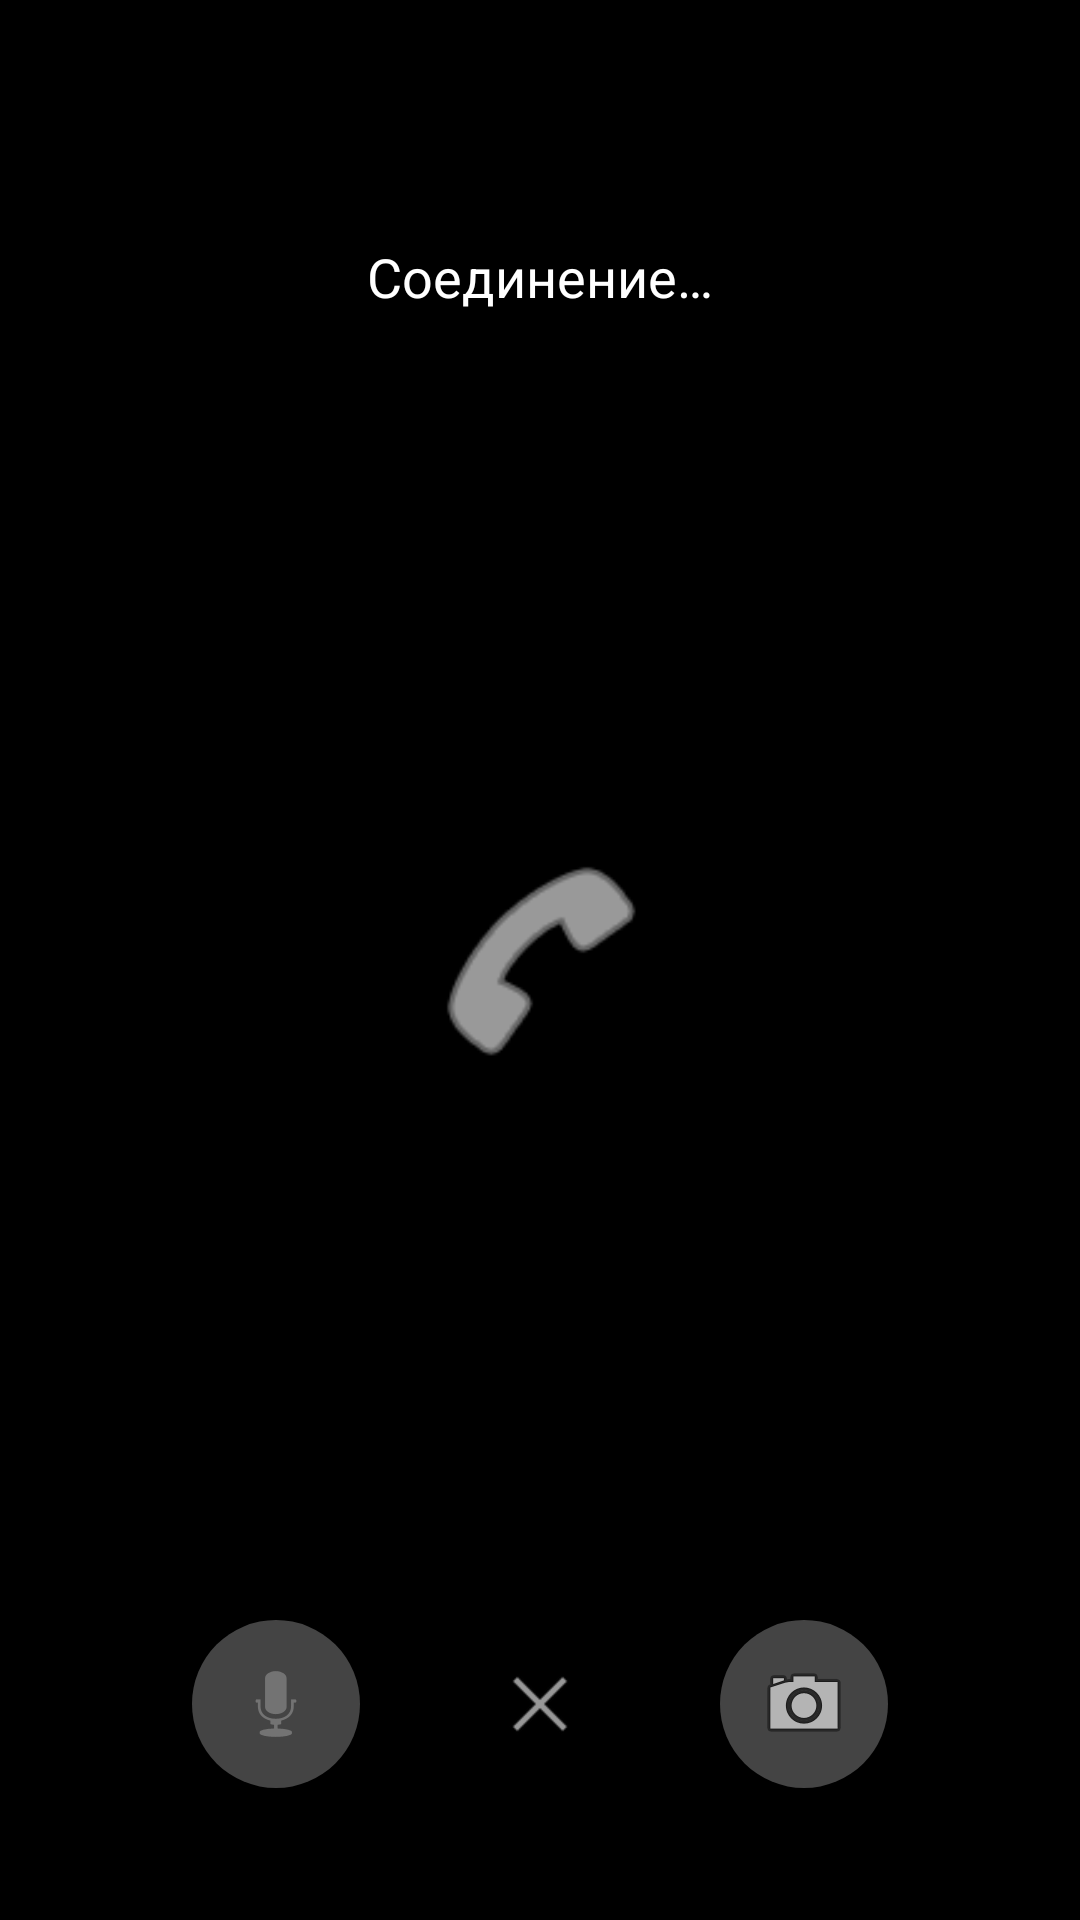

Icons on this 1080*1920 Android screen, each with its box as detection(x1, y1, x2, y2):
call: detection(447, 867, 635, 1055)
Camera: detection(720, 1620, 888, 1788)
Mute: detection(192, 1620, 360, 1788)
